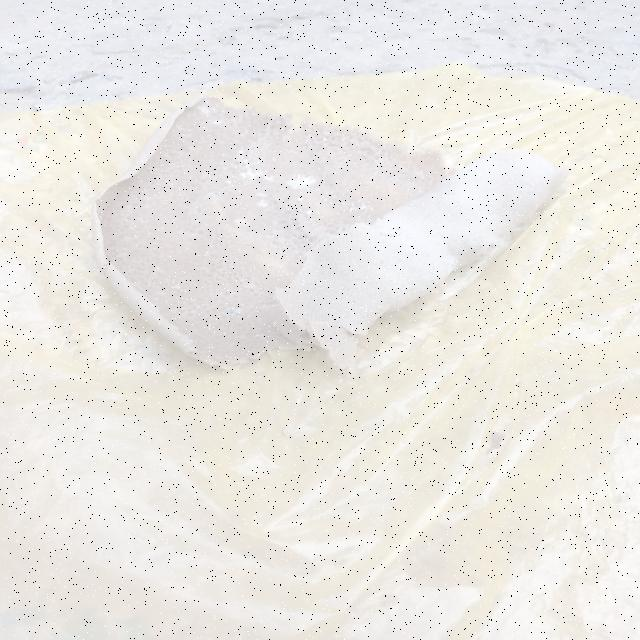injera_mold: (196, 99, 226, 127), (285, 171, 318, 191), (238, 168, 274, 184), (292, 194, 316, 216), (231, 149, 259, 167), (342, 199, 372, 212), (218, 304, 244, 319), (252, 197, 270, 208)
